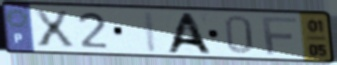0: (222, 14, 256, 56)
2: (76, 10, 111, 50)
A: (163, 12, 215, 56)
F: (259, 16, 299, 57)
I: (141, 10, 159, 54)
X: (30, 8, 78, 49)
